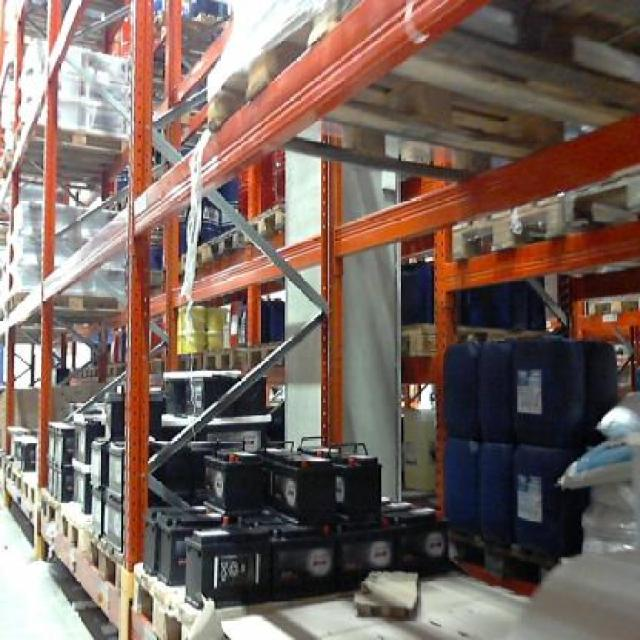pallet: (136, 561, 197, 640), (86, 522, 126, 598), (61, 500, 94, 562), (38, 482, 62, 538)
